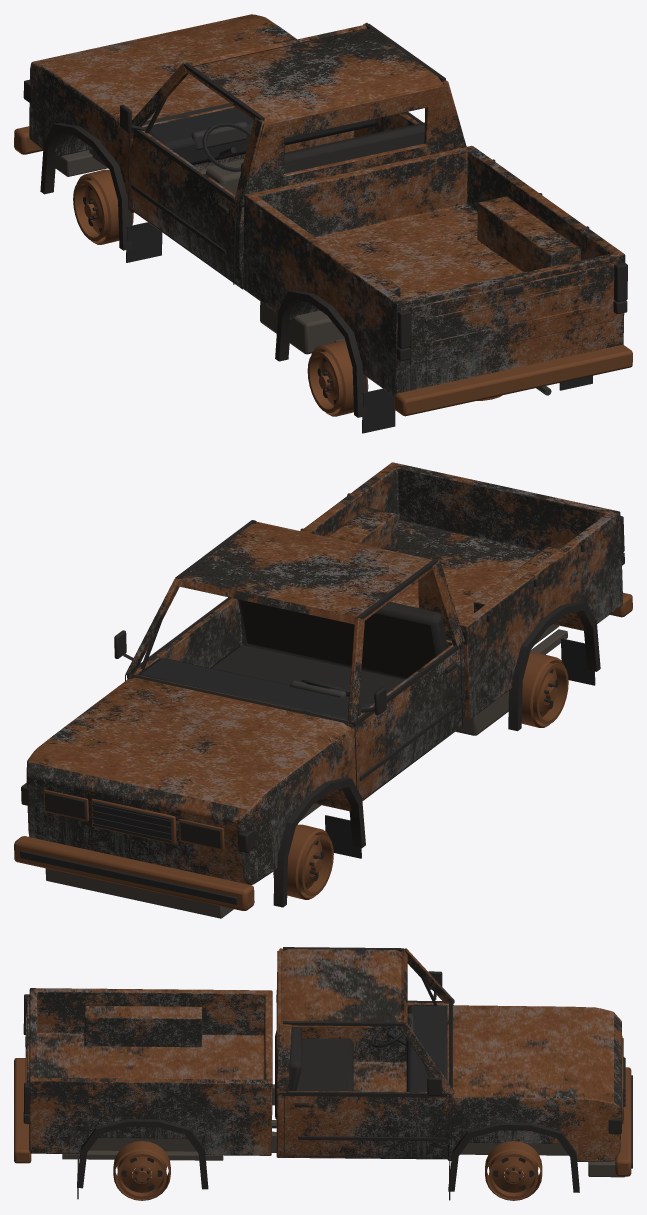
Rendered from pickup_wreck.glb.
3 renders of one model, top to bottom at view 1: azimuth 30°, elevation 25°; view 2: azimuth 150°, elevation 25°; view 3: azimuth 270°, elevation 25°, orthographic. The views are drawn at different scales.
Visible parts, largest first — view 1: body; view 2: body; view 3: body.
Boxes of the visible parts, x1=… form: body: x1=14, y1=14, x2=632, y2=433; body: x1=14, y1=462, x2=632, y2=918; body: x1=14, y1=947, x2=632, y2=1200.
Bounding box in the file's own units: 1.95 × 1.59 × 5.
Materials: 6 (1 with a texture image).
